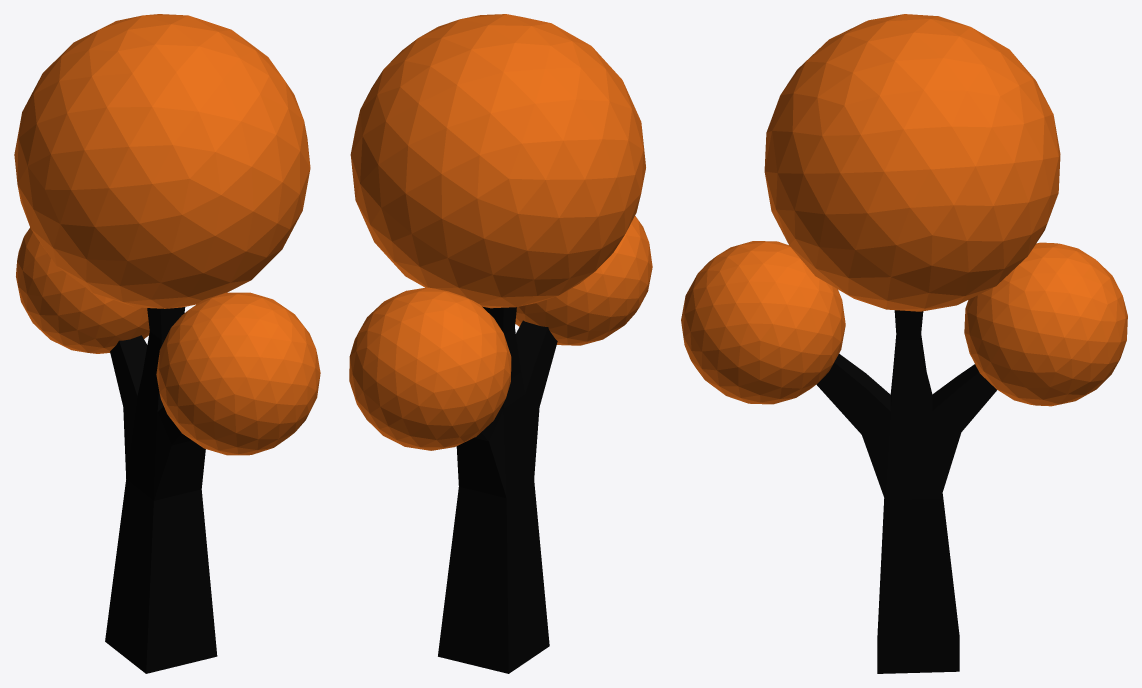
File: HotTrees1.fbx
3 renders of one model, left to right at view 1: azimuth 30°, elevation 25°; view 2: azimuth 150°, elevation 25°; view 3: azimuth 270°, elevation 25°, orthographic.
Parts seen in each view (by area): view 1: Icosphere.018, Cube.003, Icosphere.015, Icosphere.019; view 2: Icosphere.018, Cube.003, Icosphere.019, Icosphere.015; view 3: Icosphere.018, Cube.003, Icosphere.015, Icosphere.019.
Part boxes in pixels (x1,y1,x2,y2): Icosphere.018: (14, 14, 310, 308); Cube.003: (105, 307, 217, 673); Icosphere.015: (156, 292, 320, 455); Icosphere.019: (16, 227, 149, 353); Icosphere.018: (350, 14, 645, 308); Cube.003: (438, 306, 557, 673); Icosphere.019: (349, 287, 511, 450); Icosphere.015: (515, 216, 652, 345); Icosphere.018: (764, 14, 1060, 311); Cube.003: (816, 310, 996, 673); Icosphere.015: (681, 241, 845, 404); Icosphere.019: (964, 242, 1127, 406).
Bounding box in the file's own units: 1.51 × 3.53 × 2.28.
